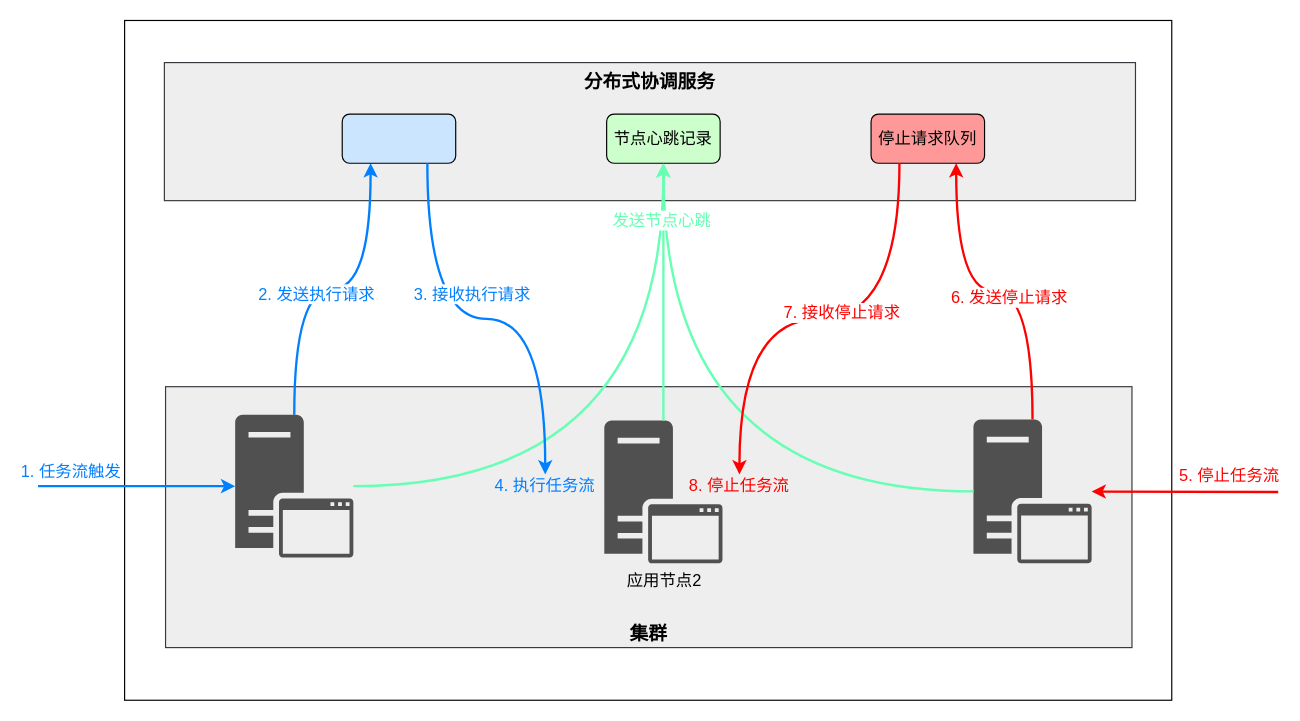
The diagram is 1300 pixels wide and 721 high, and some of its shapes have lost their labels. Here are the shapes that lost their labels. From the top down, the centre of each, then its label:
At (398,138): "执行请求队列".
At (294,485): "应用节点1".
At (1032,491): "应用节点3".
